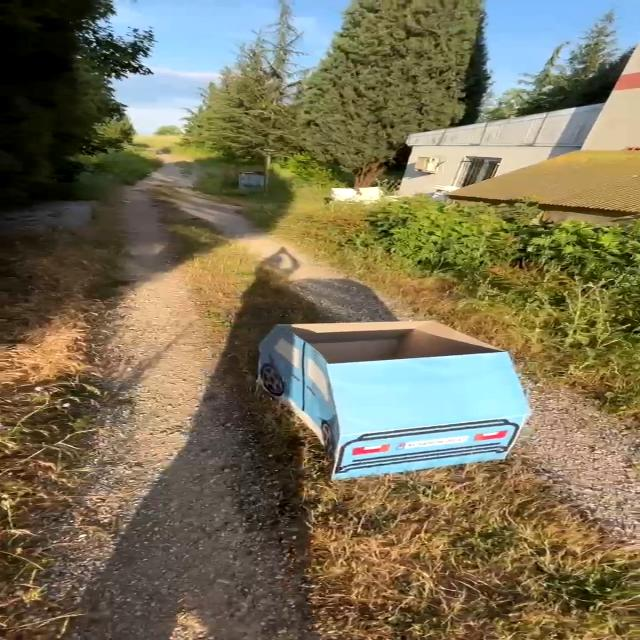blue_car: (221, 294, 582, 505)
